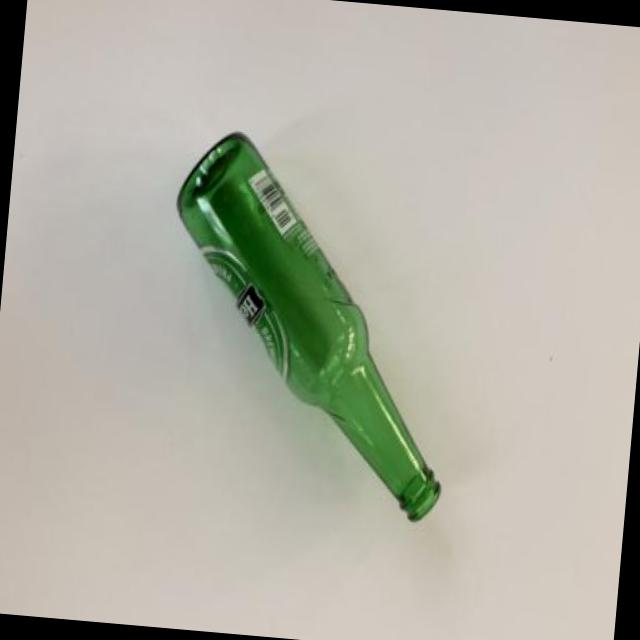chai_thuy_tinh: (176, 129, 442, 521)
